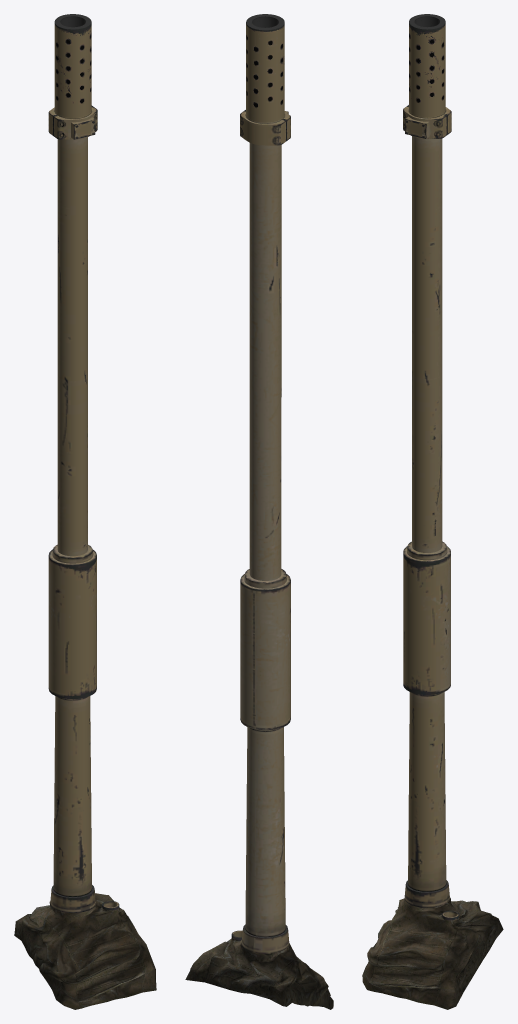
File: Gun_03.glb
3 renders of one model, left to right at view 1: azimuth 30°, elevation 25°; view 2: azimuth 150°, elevation 25°; view 3: azimuth 330°, elevation 25°, orthographic. The views are drawn at different scales.
Visible parts, largest first — view 1: set_0_group_0; view 2: set_0_group_0; view 3: set_0_group_0.
Boxes of the visible parts, bbox=[...] form: set_0_group_0: bbox=[14, 14, 156, 1009]; set_0_group_0: bbox=[185, 14, 333, 1009]; set_0_group_0: bbox=[362, 14, 503, 1009].
Bounding box in the file's own units: 0.7644 × 7.18 × 0.7413.
Materials: 1 (1 with a texture image).
